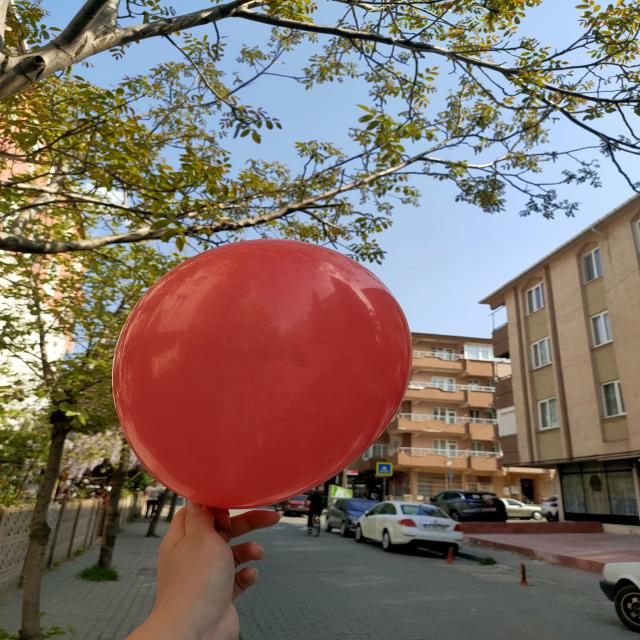red: (115, 240, 414, 513)
